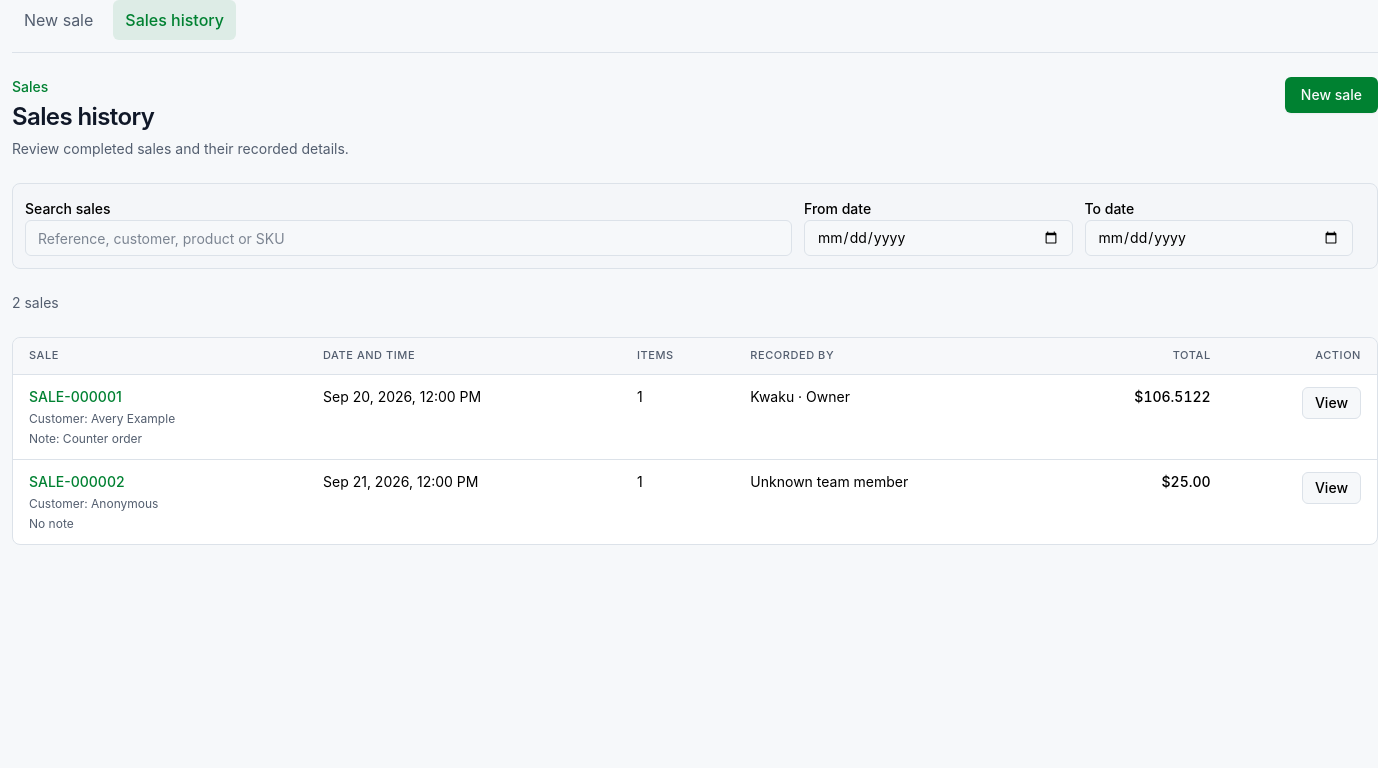
Test: sales history and details › filters by reference and snapshotted SKU, supports date range, and shows filtered-empty state
Type "SALE-000002" into the search field labelled "Search sales". click: (408, 238)
box: [25, 220, 792, 256]
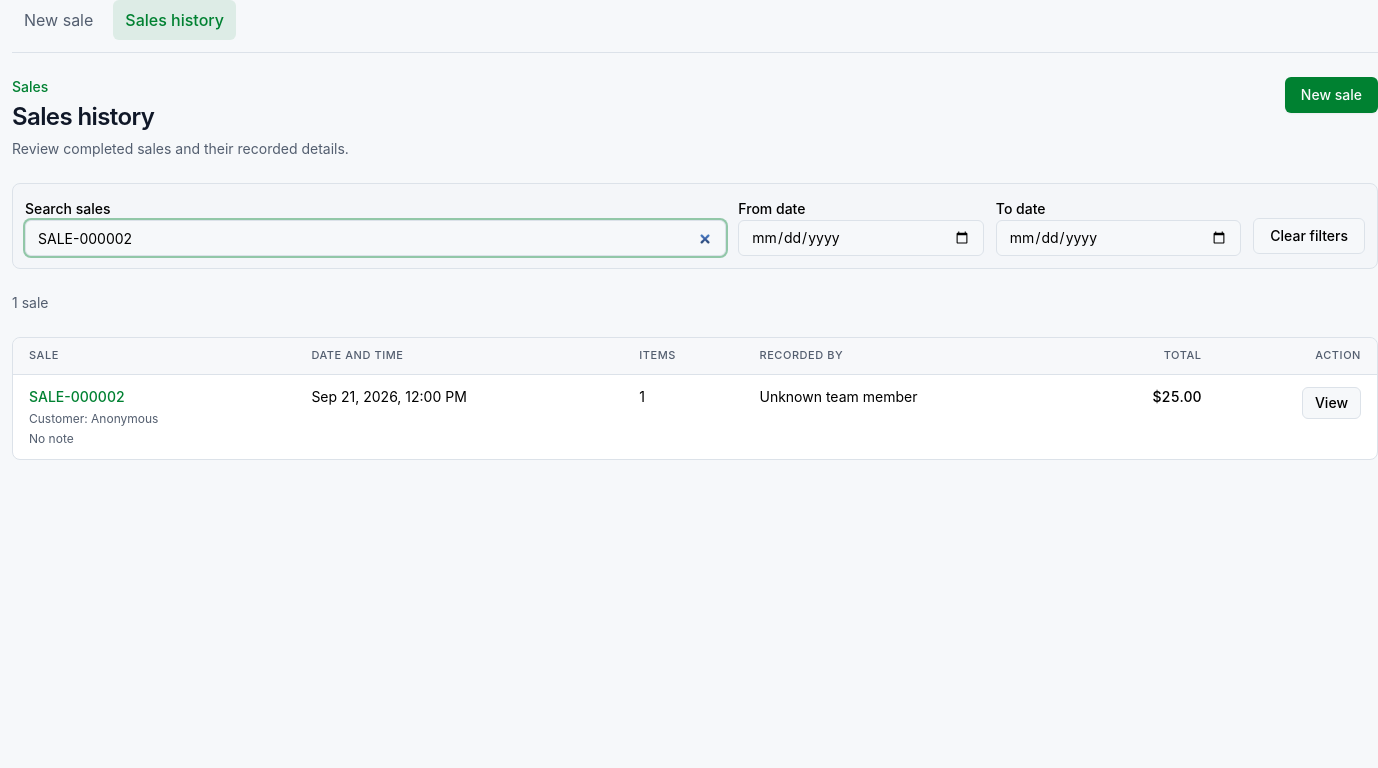
expect the link "SALE-000002" is shown: met, box [29, 388, 124, 405]
expect the link "SALE-000001" is gone: met
Clear the search field labelled "Search sales". click: (376, 238)
box: [25, 220, 726, 256]
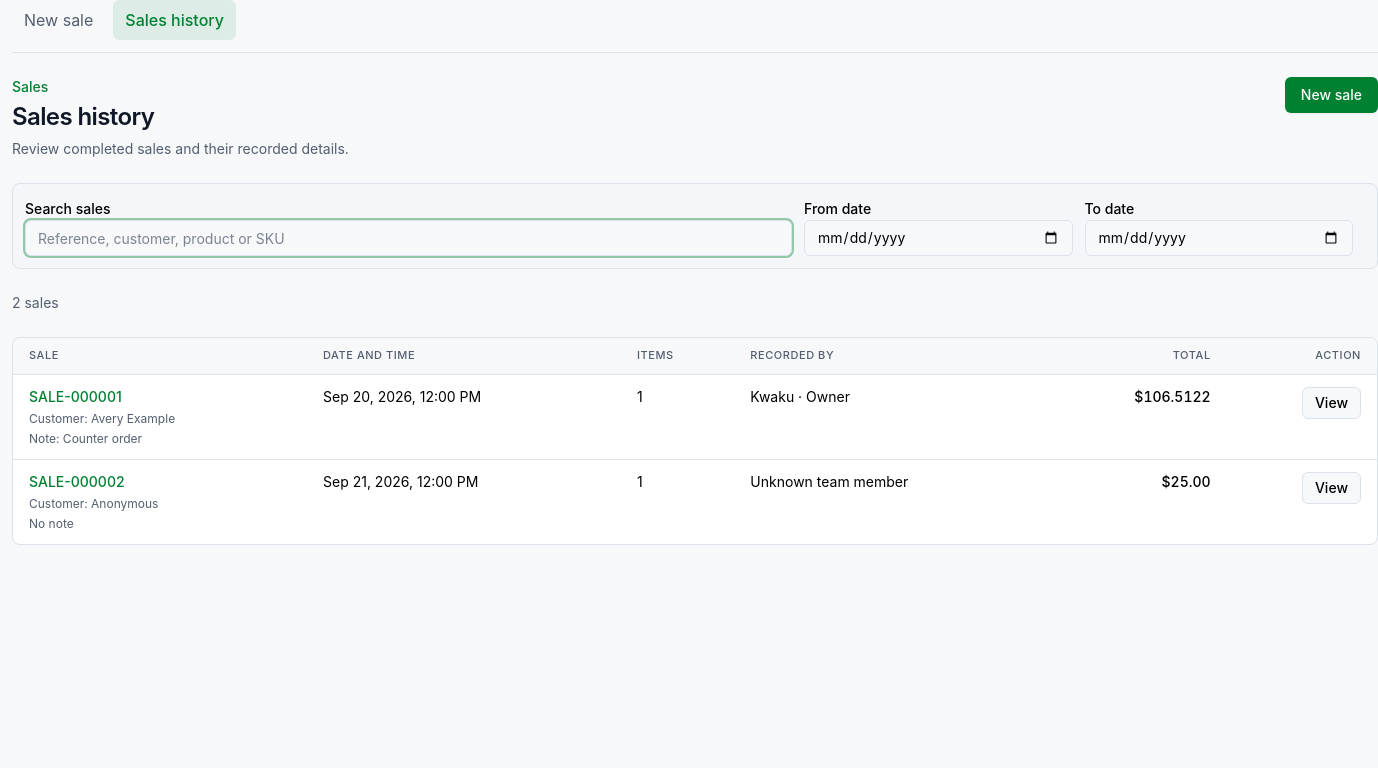
Type "CASE-01" into the search field labelled "Search sales". click: (408, 238)
box: [25, 220, 792, 256]
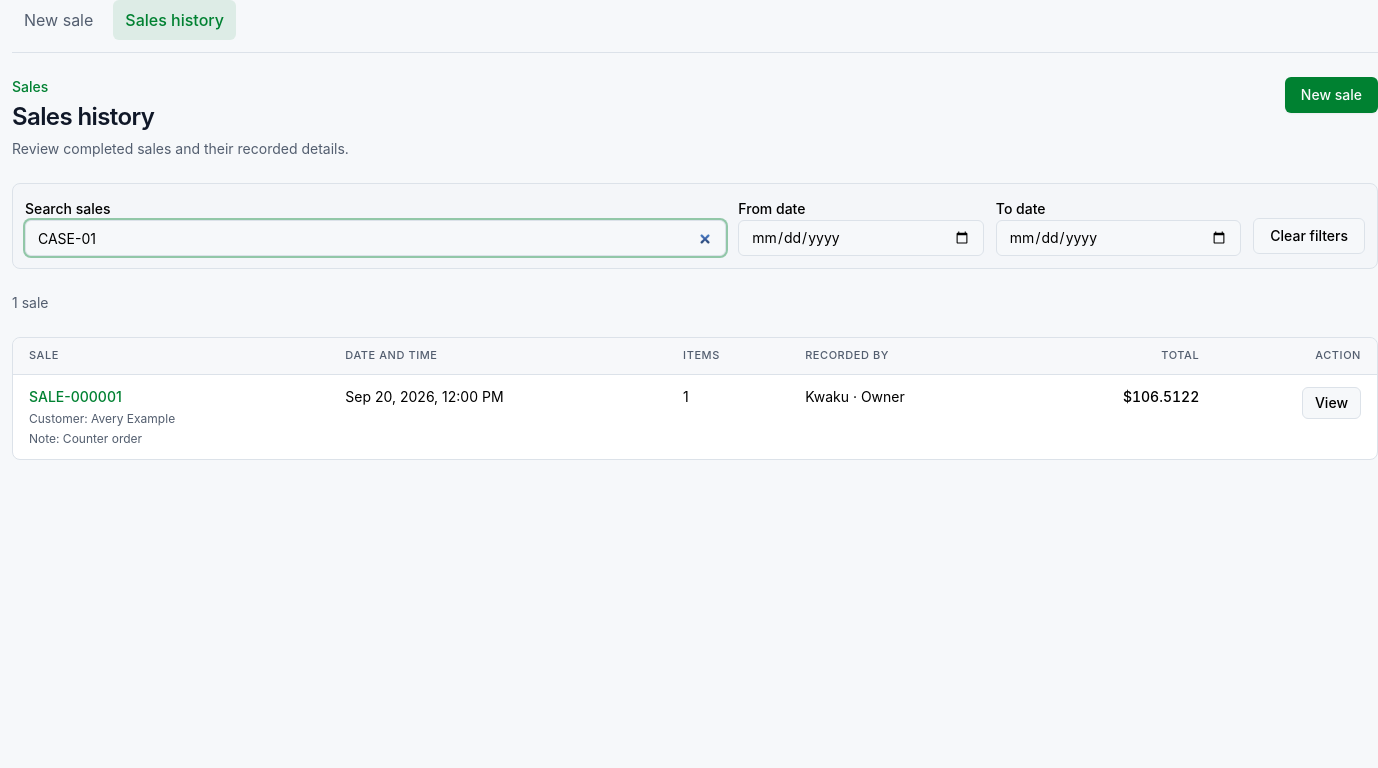
expect the link "SALE-000001" is shown: met, box [29, 388, 122, 405]
Type "2026-09-21" into the date field labelled "From date". click: (861, 238)
box: [738, 220, 984, 256]
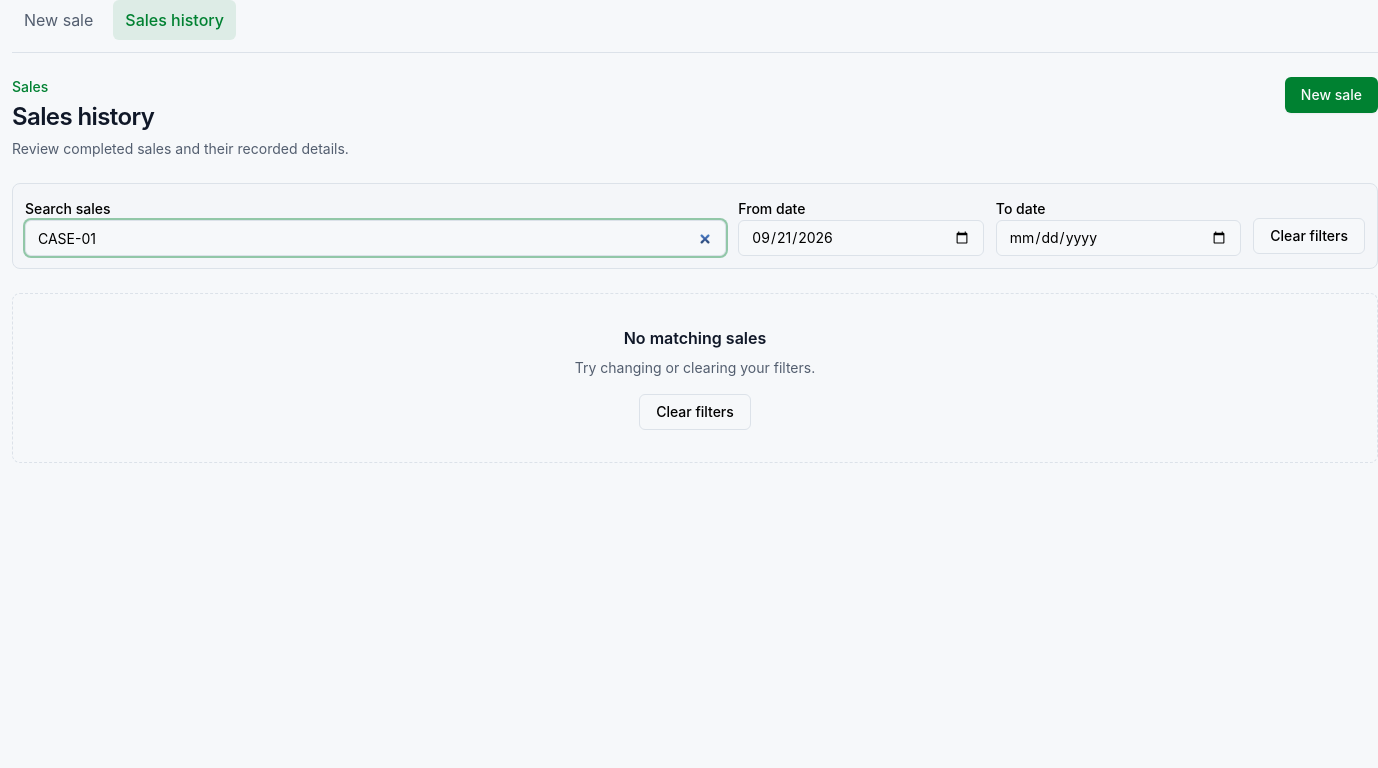
expect the heading "No matching sales" is shown: met, box [624, 326, 766, 350]
